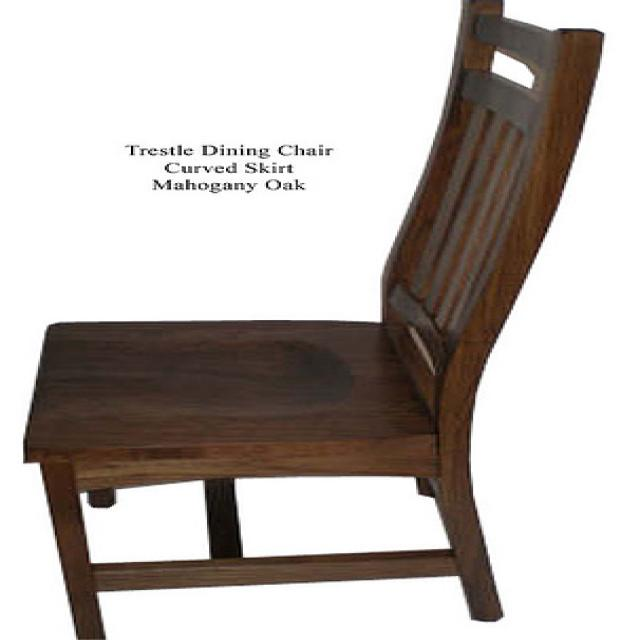chair: (21, 0, 604, 639)
